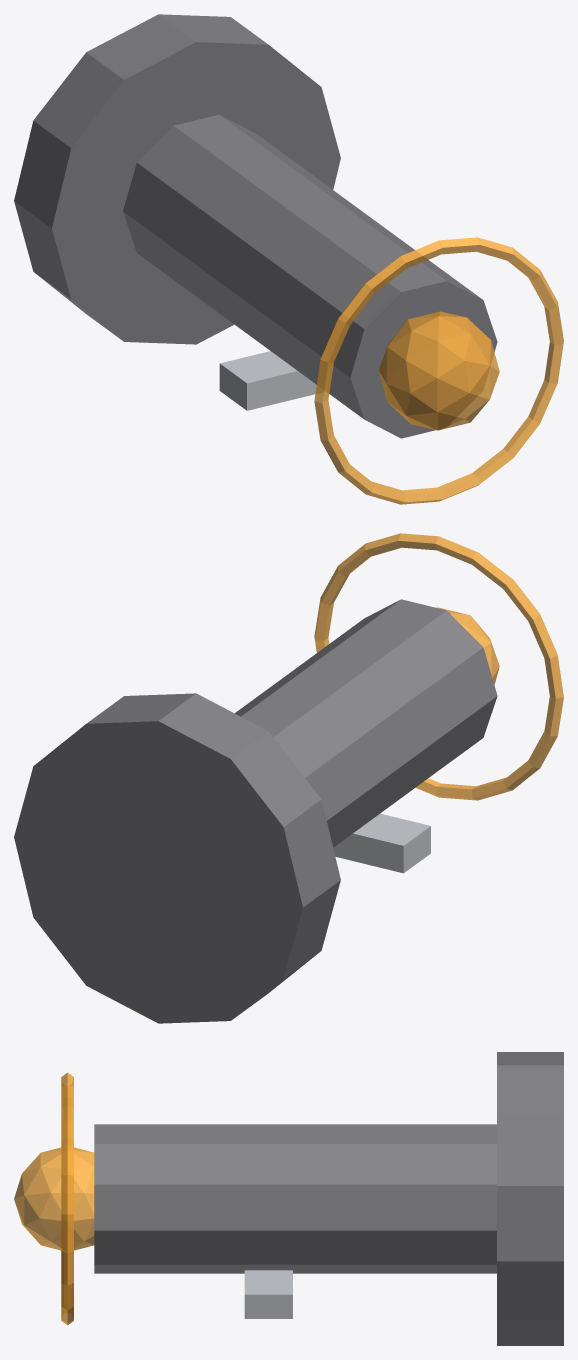
Rendered from forge_control_tower.glb.
3 views of the same model, one above another, from view 1: azimuth 30°, elevation 25°; view 2: azimuth 150°, elevation 25°; view 3: azimuth 270°, elevation 25° (orthographic). The views are drawn at different scales.
Visible parts, largest first — view 1: tower_body, base, signal_ring, energy_core, armor_plate; view 2: base, tower_body, signal_ring, armor_plate, energy_core; view 3: tower_body, base, energy_core, signal_ring, armor_plate.
Part boxes in pixels (box(x1,y1,x2,y2)): tower_body: box(123, 114, 497, 438); base: box(14, 14, 340, 344); signal_ring: box(314, 237, 563, 504); energy_core: box(379, 311, 499, 430); armor_plate: box(219, 351, 324, 410); base: box(14, 693, 340, 1023); tower_body: box(235, 599, 497, 847); signal_ring: box(314, 533, 563, 800); armor_plate: box(333, 813, 430, 873); energy_core: box(436, 607, 499, 684); tower_body: box(94, 1124, 496, 1273); base: box(497, 1052, 563, 1345); energy_core: box(14, 1147, 94, 1250); signal_ring: box(61, 1072, 73, 1325); armor_plate: box(244, 1270, 292, 1318).
Size of the model in its own units: 1.1 by 1.1 by 2.05.
